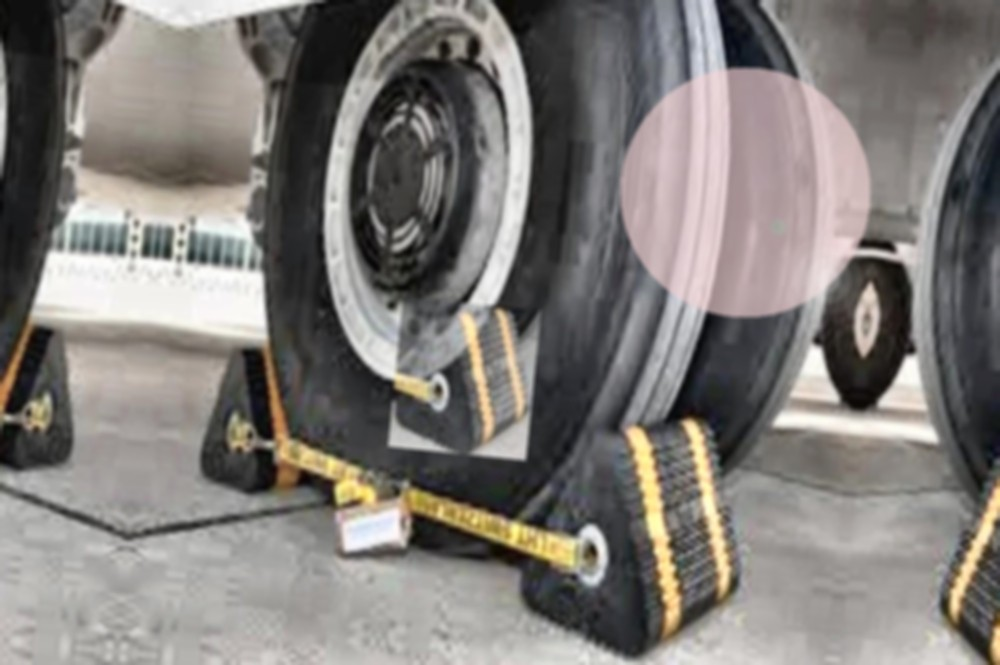chock: (509, 401, 758, 665), (388, 297, 541, 460), (195, 338, 296, 494), (0, 317, 86, 473)
wheel: (216, 0, 761, 551), (648, 0, 852, 480), (897, 21, 1000, 505), (813, 253, 874, 407), (859, 257, 919, 412)
